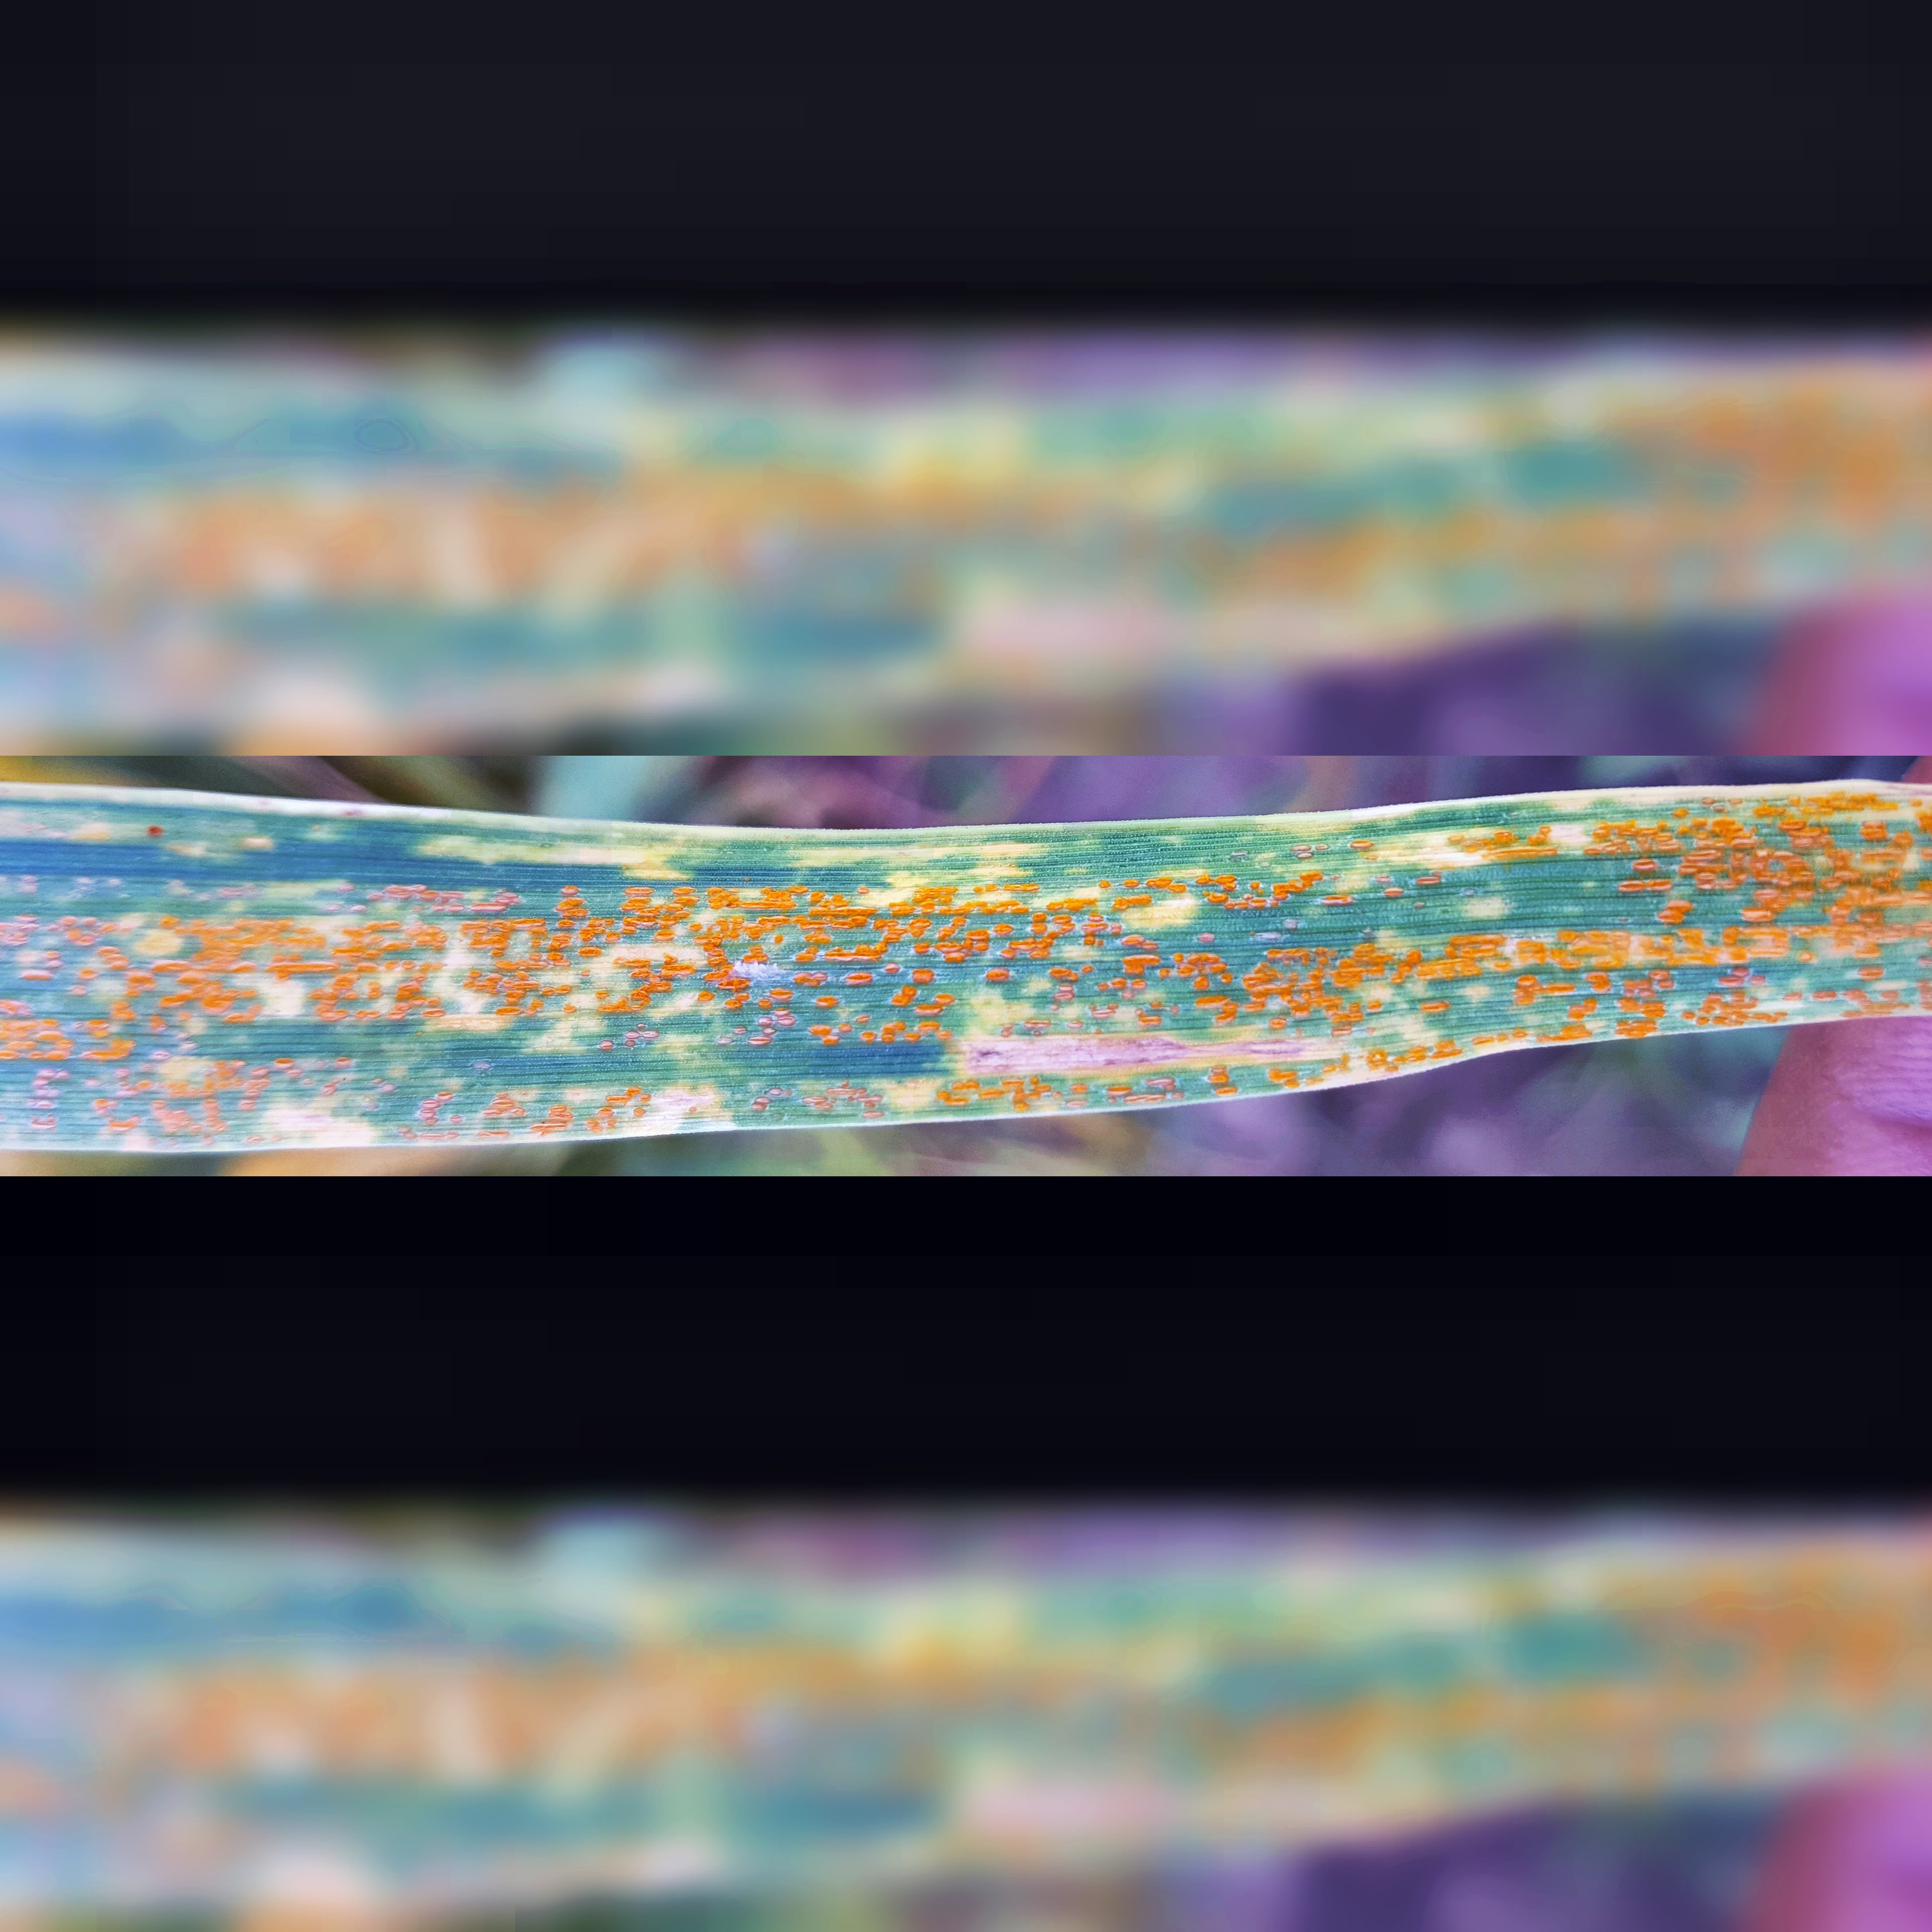Leaf Rust: (44, 782, 1930, 1161)
